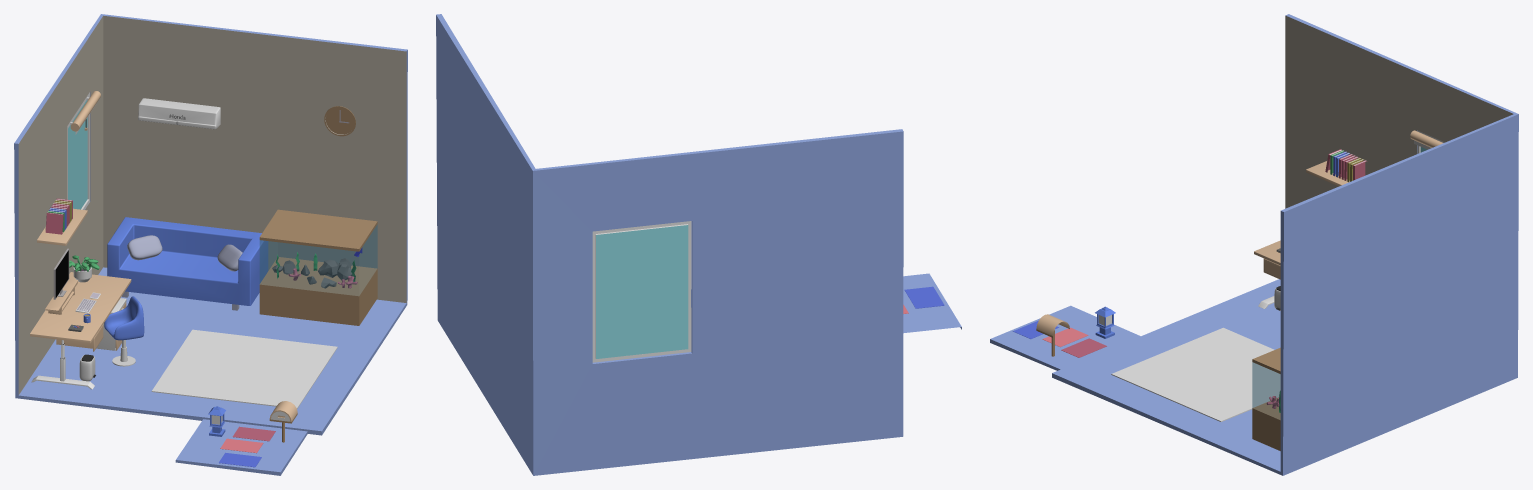
File: room1.glb
3 renders of one model, left to right at view 1: azimuth 30°, elevation 25°; view 2: azimuth 150°, elevation 25°; view 3: azimuth 270°, elevation 25°, orthographic. The views are drawn at different scales.
Visible parts, largest first — view 1: walls, sofa, carpet, Cube.048, tank, ground, TableTop, window, conditioner, Cube.042, pillow, clock (+9 smaller); view 2: walls, window, ground, path.002; view 3: walls, carpet, ground, Cube.048, tank, notepad.001.
Boxes of the visible parts, left/top/right/bottom form: walls: left=14, top=14, right=407, bottom=435; sofa: left=107, top=217, right=268, bottom=305; carpet: left=151, top=329, right=337, bottom=408; Cube.048: left=259, top=209, right=377, bottom=325; tank: left=259, top=224, right=377, bottom=295; ground: left=175, top=419, right=307, bottom=475; TableTop: left=30, top=272, right=131, bottom=343; window: left=67, top=92, right=89, bottom=209; conditioner: left=138, top=98, right=220, bottom=129; Cube.042: left=104, top=296, right=144, bottom=340; pillow: left=127, top=235, right=242, bottom=271; clock: left=324, top=106, right=355, bottom=136; walls: left=436, top=14, right=903, bottom=475; window: left=592, top=221, right=690, bottom=362; ground: left=903, top=273, right=961, bottom=333; path.002: left=904, top=286, right=944, bottom=308; walls: left=1052, top=14, right=1518, bottom=475; carpet: left=1111, top=327, right=1280, bottom=421; ground: left=990, top=305, right=1140, bottom=370; Cube.048: left=1252, top=347, right=1280, bottom=450; tank: left=1252, top=362, right=1280, bottom=419; notepad.001: left=1330, top=150, right=1367, bottom=182.
Bounding box in the file's own units: 27.5 × 17.26 × 31.
